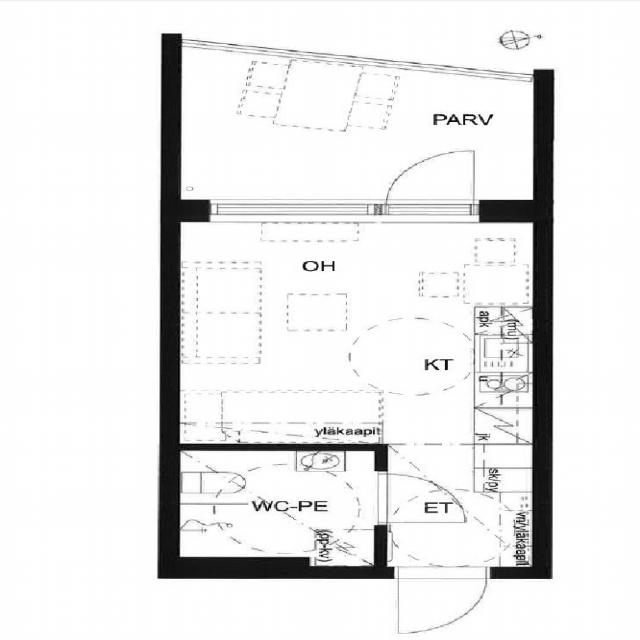door: (385, 146, 473, 222), (398, 566, 485, 632), (374, 474, 465, 521)
